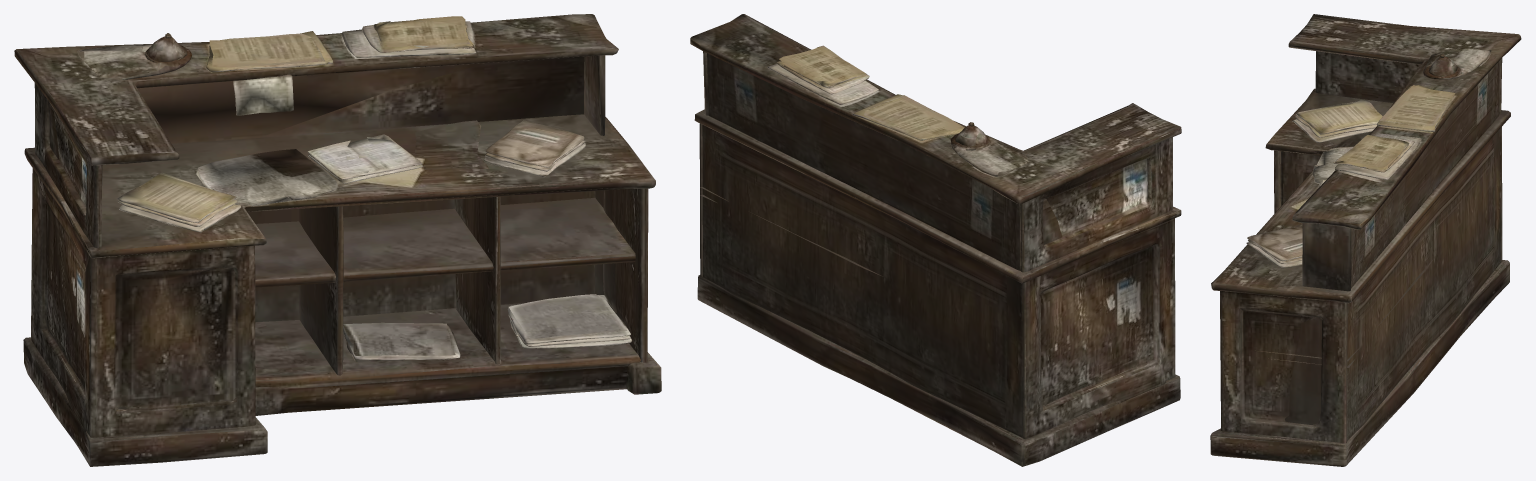
Rendered from reception.glb.
3 views of the same model, side by side, from view 1: azimuth 30°, elevation 25°; view 2: azimuth 150°, elevation 25°; view 3: azimuth 270°, elevation 25° (orthographic). The views are drawn at different scales.
Bounding box in the file's own units: 1 × 0.6114 × 0.6409.
Materials: 1 (1 with a texture image).
